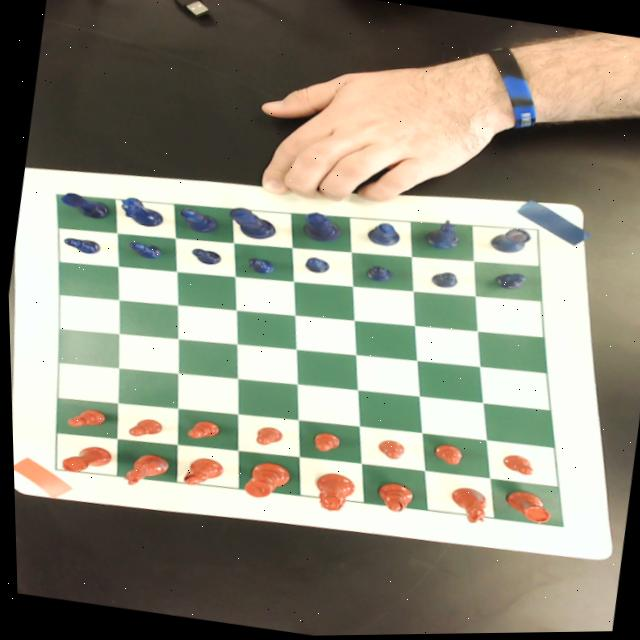B: (175, 207, 220, 236), (365, 220, 400, 249)
K: (224, 205, 279, 242)
N: (114, 193, 166, 229), (419, 216, 464, 253)
P: (489, 270, 527, 294), (60, 234, 100, 256), (126, 240, 163, 262), (242, 255, 277, 278), (428, 269, 459, 292), (189, 247, 221, 267), (362, 264, 392, 285), (302, 256, 331, 276)
Q: (299, 210, 343, 245)
R: (56, 189, 111, 221), (486, 223, 531, 256)
b: (179, 455, 222, 490), (372, 480, 415, 515)
k: (239, 458, 291, 503)
n: (116, 449, 169, 491), (441, 485, 487, 526)
p: (63, 404, 107, 432), (124, 415, 161, 441), (183, 418, 220, 443), (497, 453, 534, 477), (429, 443, 463, 468), (308, 431, 340, 455), (251, 425, 281, 448), (372, 438, 402, 461)
q: (308, 471, 356, 515)
r: (499, 488, 552, 527), (57, 441, 112, 477)
